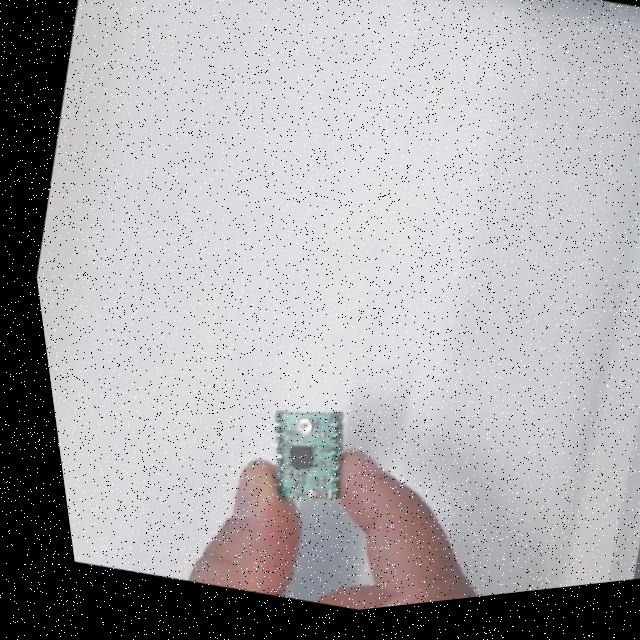Chip: (247, 393, 366, 519)
